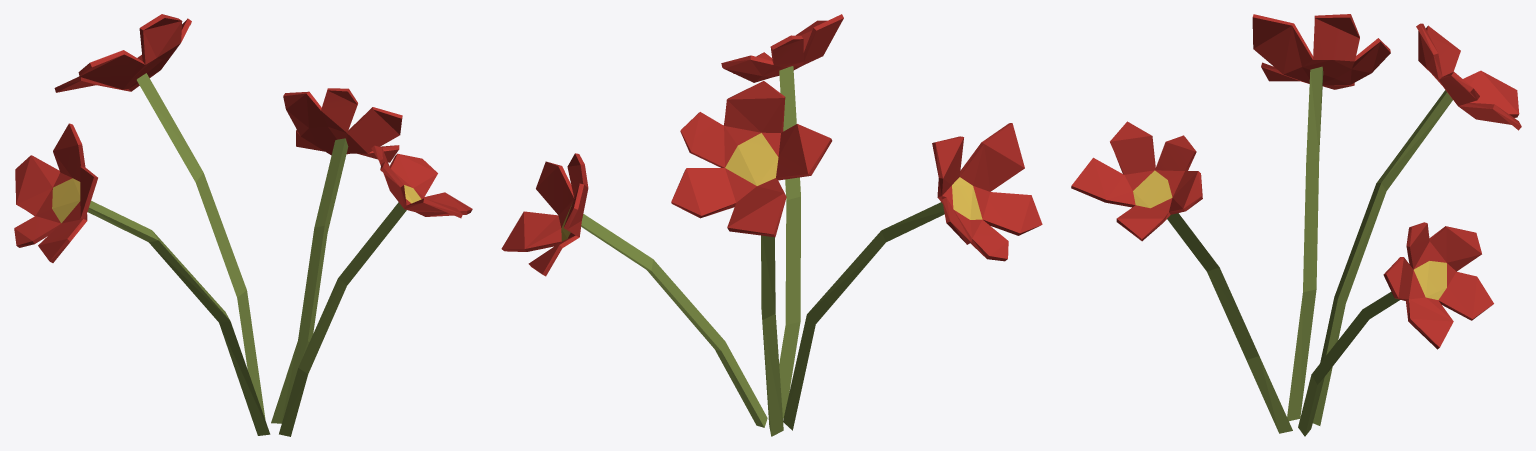
File: flower_01.glb
3 renders of one model, left to right at view 1: azimuth 30°, elevation 25°; view 2: azimuth 150°, elevation 25°; view 3: azimuth 270°, elevation 25°, orthographic. The views are drawn at different scales.
Parts seen in each view (by area): view 1: rpgpp_lt_flower_01; view 2: rpgpp_lt_flower_01; view 3: rpgpp_lt_flower_01.
Boxes of the visible parts, box(x1,y1,x2,y2) form: rpgpp_lt_flower_01: box(14, 14, 472, 436); rpgpp_lt_flower_01: box(501, 14, 1042, 436); rpgpp_lt_flower_01: box(1071, 14, 1521, 436).
Bounding box in the file's own units: 1.21 × 1.04 × 1.12.
1 material, 1 textured.
